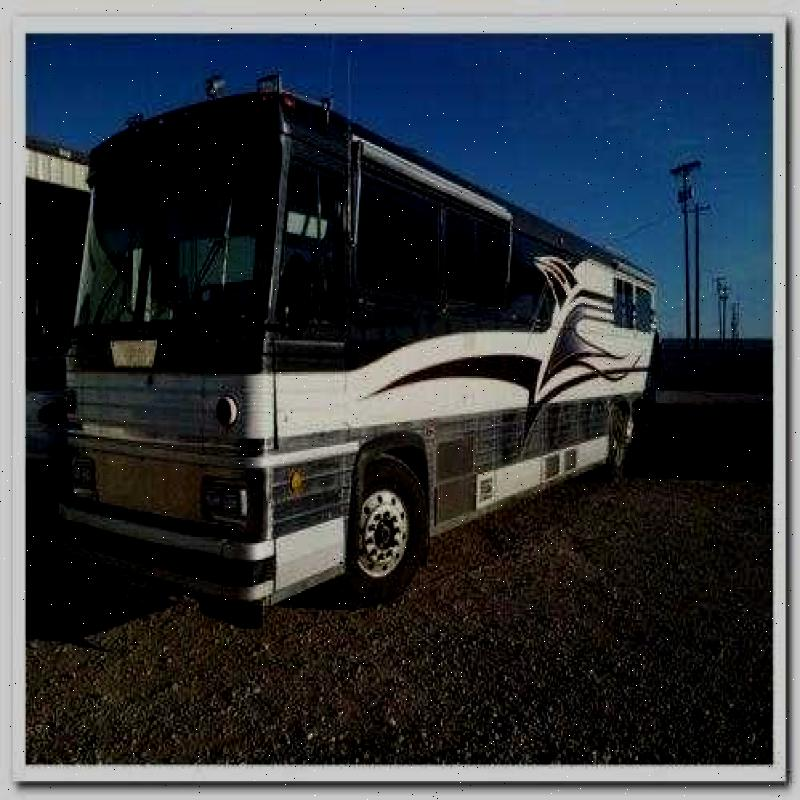bus: (56, 65, 680, 625)
